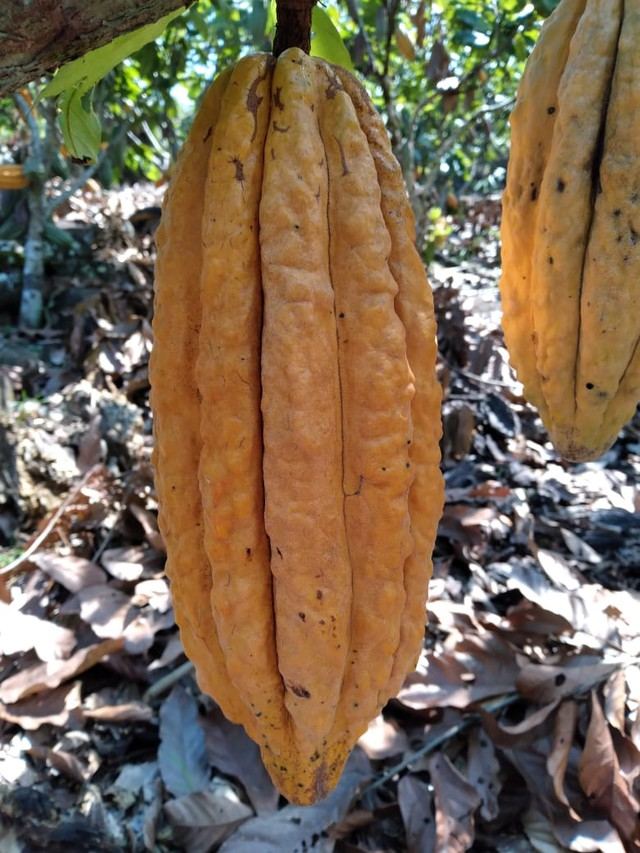Health: (142, 36, 456, 813)
